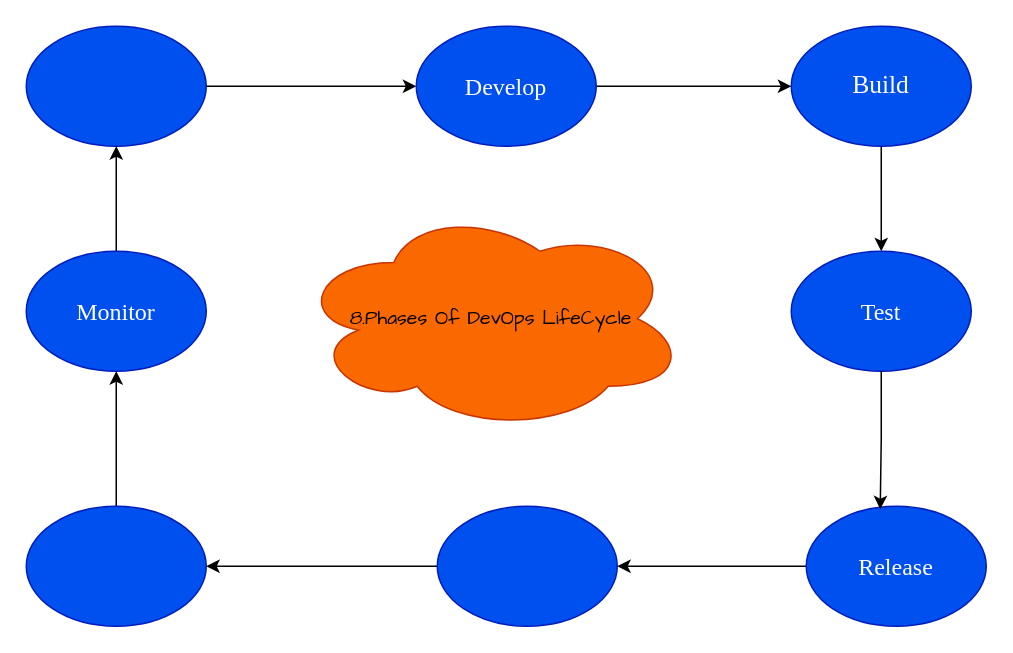
This 1013x653 diagram has some shape labels left out. The shapes that lost their labels are listed below. From the top down, each one's box as (x1, y1, x2, y2) in pixels, then its label:
(25, 25, 206, 146): Plan
(25, 505, 206, 626): Operate
(436, 505, 617, 626): Deploy
